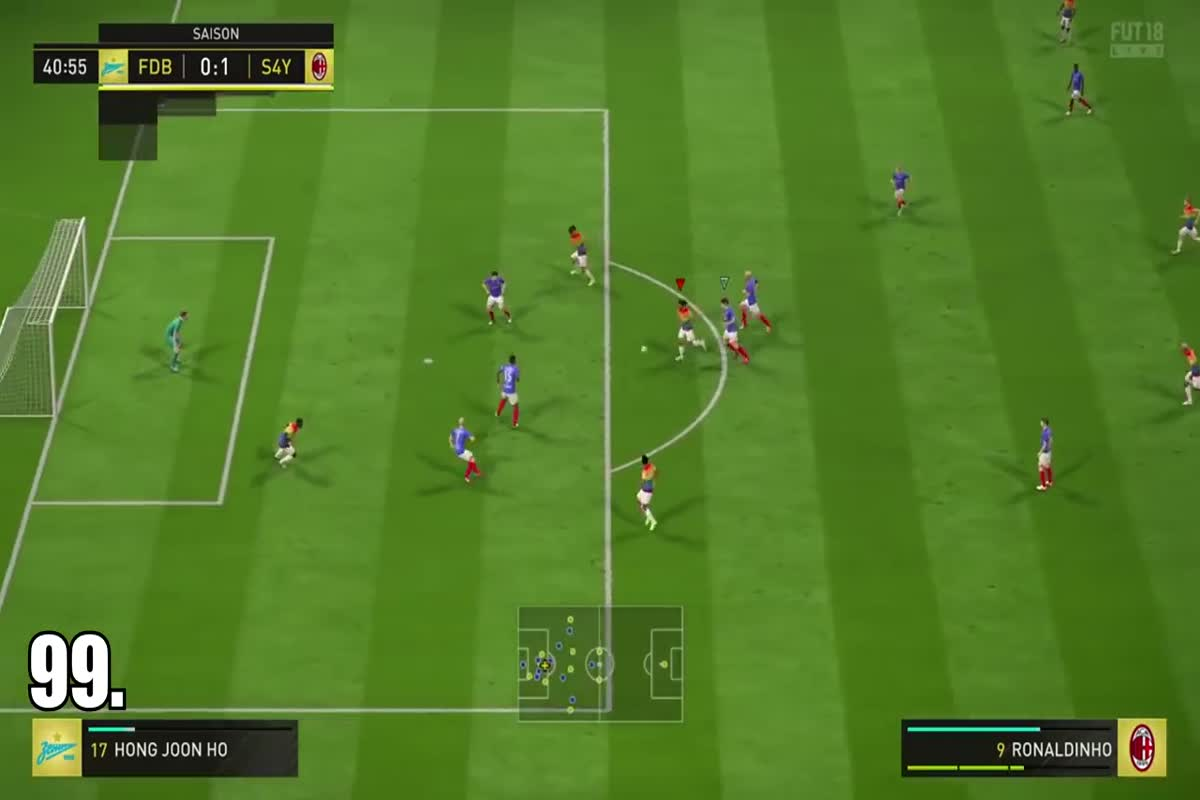ball: (632, 339, 654, 359)
